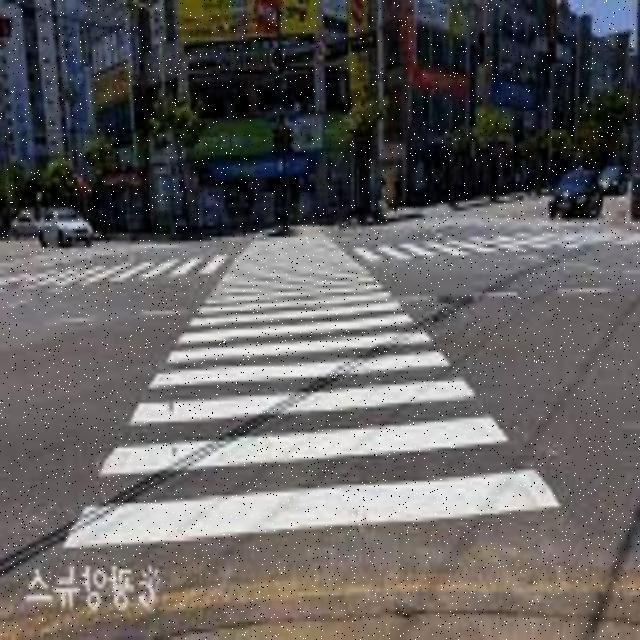Pedestrian crosswalk: (53, 219, 549, 562), (363, 210, 622, 290), (1, 242, 232, 324)
